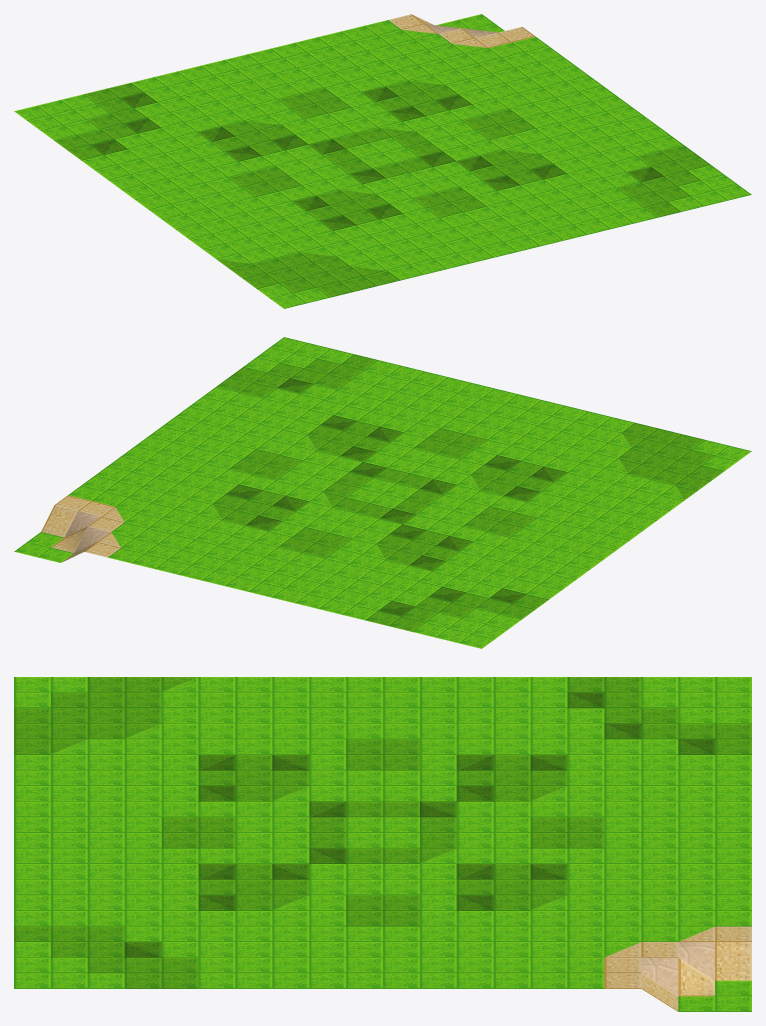
File: FloorCentral_4.obj
The picture shows the model from 3 angles, top to bottom: view 1: azimuth 30°, elevation 25°; view 2: azimuth 150°, elevation 25°; view 3: azimuth 270°, elevation 25°; orthographic projection. The views are drawn at different scales.
Visible parts, largest first — view 1: FloorCentral_4; view 2: FloorCentral_4; view 3: FloorCentral_4.
Part boxes in pixels (<box>): FloorCentral_4: <box>14,14,751,308</box>; FloorCentral_4: <box>14,337,751,648</box>; FloorCentral_4: <box>14,677,751,1011</box>.
Bounding box in the file's own units: 20 × 0.6907 × 20.
